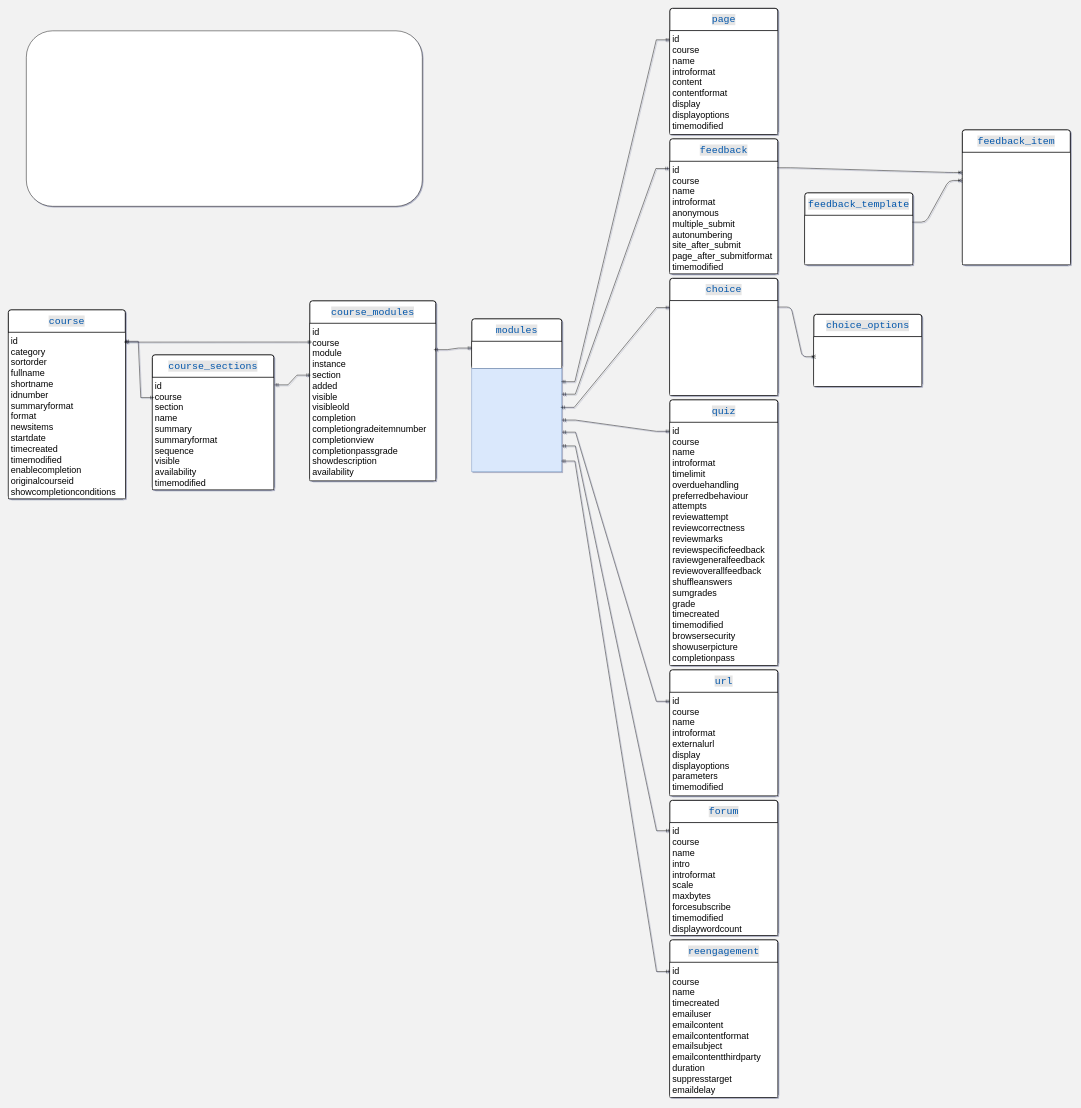
Some shapes in this 1081 by 1108 pixel diagram are drawn without their labels. The centre of each missing label's shape, as x and y in pixels:
id choiceid text timemodified: the point at 867,361
id course ispublic name: the point at 858,240
id course name intro introformat includeinactive timemodified completionsubmit: the point at 723,347
id feedback template name presentation typ hasvalue position required options: the point at 1016,208
id name: the point at 516,354
IMPORTANT COLUMNS THAT SHOULD RECEIVE RELEVANT VALUES: the point at 224,118
page feedback choice quiz url forum reengagement: the point at 516,420
